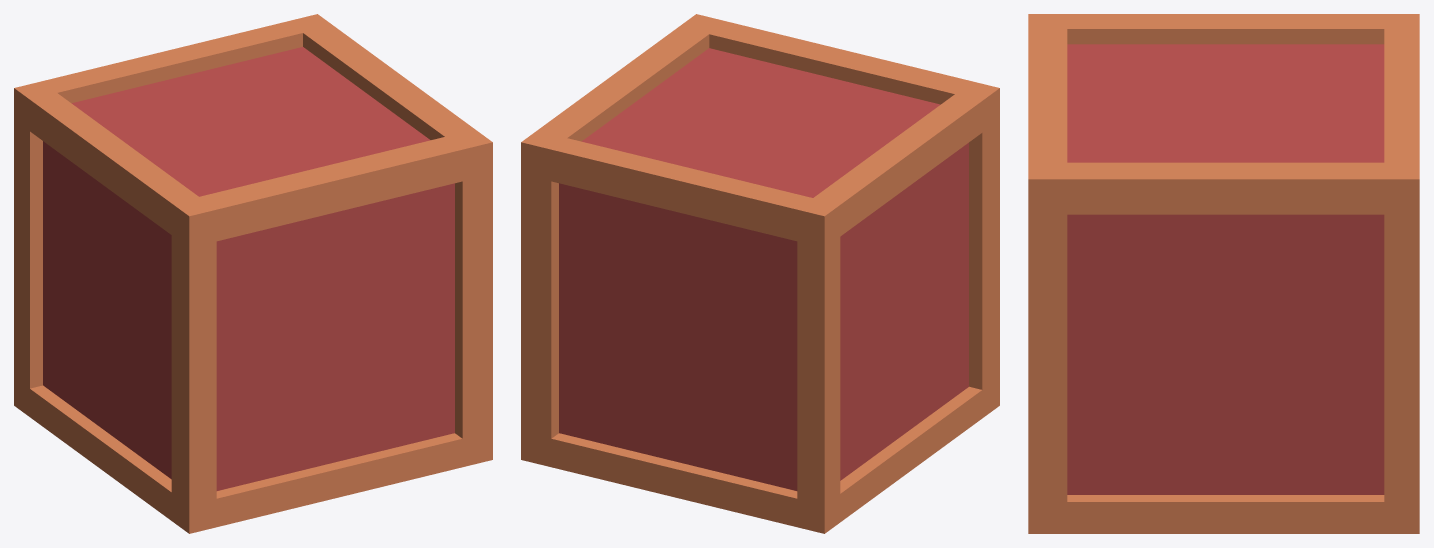
Rendered from Crate.fbx.
3 renders of one model, left to right at view 1: azimuth 30°, elevation 25°; view 2: azimuth 150°, elevation 25°; view 3: azimuth 270°, elevation 25°, orthographic. The views are drawn at different scales.
Parts seen in each view (by area): view 1: Cube.006; view 2: Cube.006; view 3: Cube.006.
Boxes of the visible parts, x1=… form: Cube.006: x1=14, y1=14, x2=492, y2=533; Cube.006: x1=521, y1=14, x2=999, y2=533; Cube.006: x1=1028, y1=14, x2=1419, y2=533.
Size of the model in its own units: 200 by 200 by 200.
